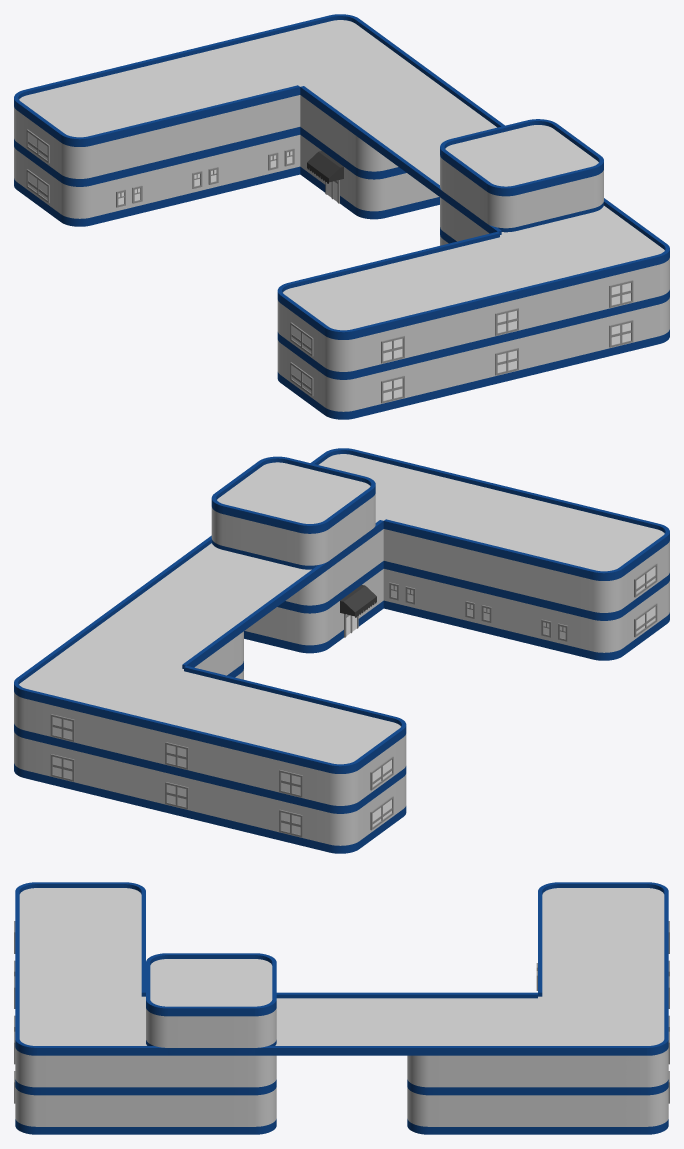
The model's file is modern_house.fbx.
3 views of the same model, one above another, from view 1: azimuth 30°, elevation 25°; view 2: azimuth 150°, elevation 25°; view 3: azimuth 270°, elevation 25° (orthographic).
Parts seen in each view (by area): view 1: mergedBlocks; view 2: mergedBlocks; view 3: mergedBlocks.
Part boxes in pixels (box(x1,y1,x2,y2)): mergedBlocks: box(14, 14, 669, 419); mergedBlocks: box(14, 448, 669, 853); mergedBlocks: box(14, 882, 669, 1134).
Size of the model in its own units: 90.3 by 32 by 151.
